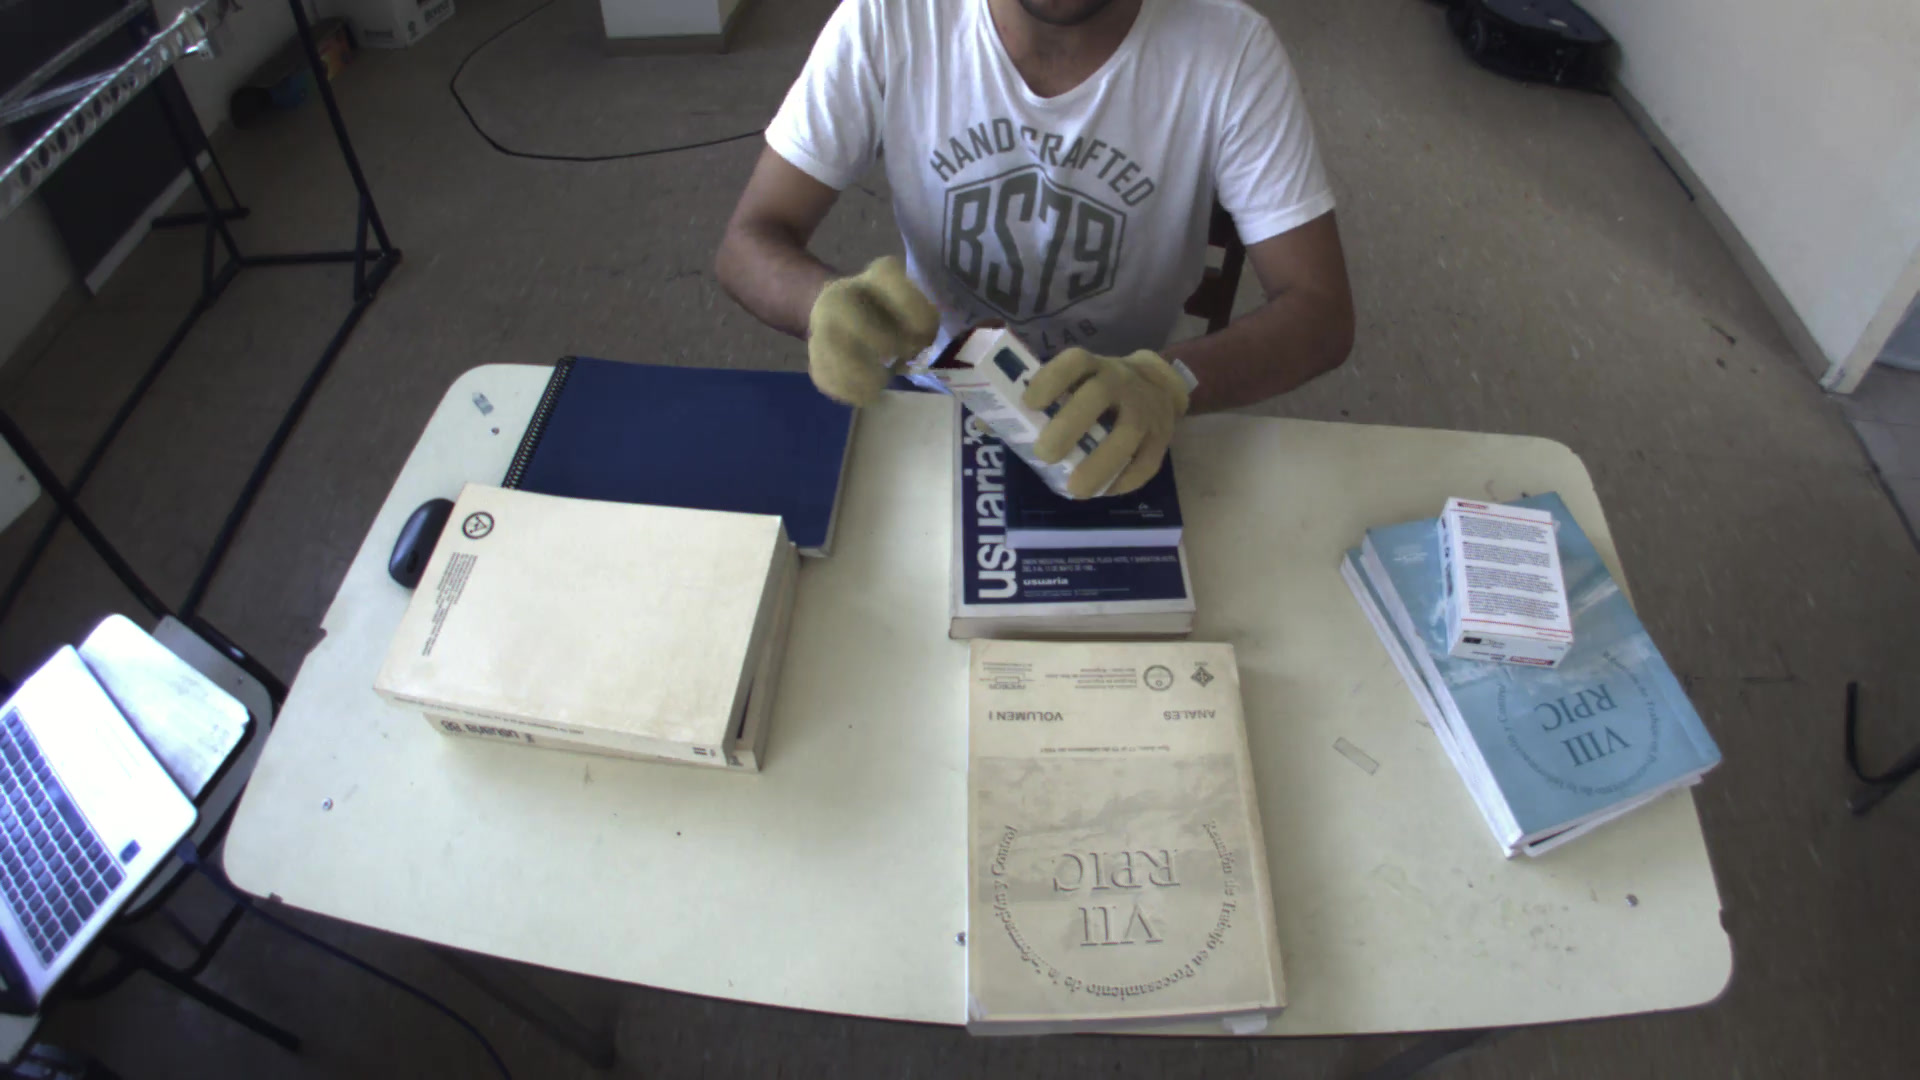hand: (1018, 328, 1207, 506), (794, 243, 945, 415)
